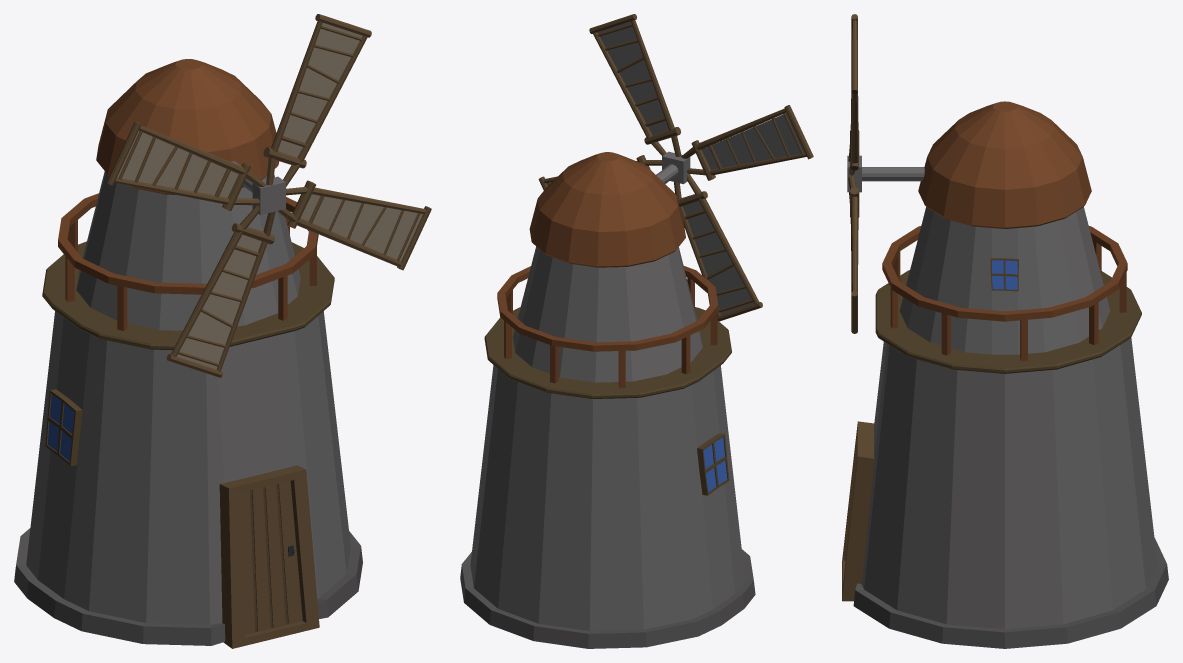
The model's file is Windmill_3.fbx.
3 views of the same model, side by side, from view 1: azimuth 30°, elevation 25°; view 2: azimuth 150°, elevation 25°; view 3: azimuth 270°, elevation 25° (orthographic). The views are drawn at different scales.
Visible parts, largest first — view 1: Windmill_3; view 2: Windmill_3; view 3: Windmill_3.
Part boxes in pixels (left/top/right/bottom): Windmill_3: left=14, top=14, right=431, bottom=648; Windmill_3: left=460, top=14, right=813, bottom=648; Windmill_3: left=842, top=14, right=1168, bottom=648.
Bounding box in the file's own units: 405 × 725 × 380.
